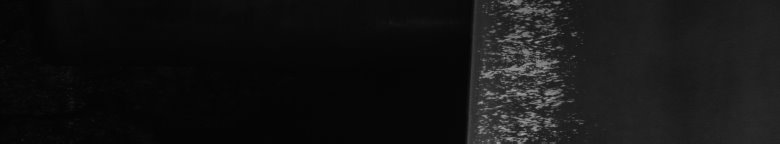kb: (484, 4, 544, 136)
